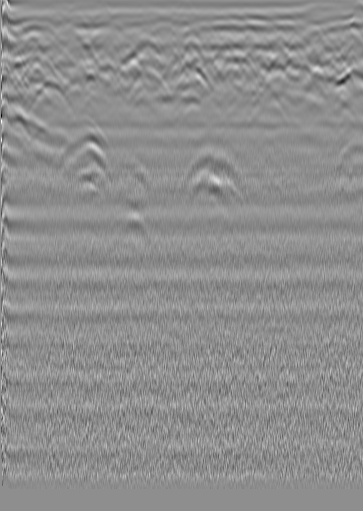가스: (56, 132, 111, 181)
상수: (307, 21, 327, 41)
오수: (21, 29, 41, 49)
우수: (183, 21, 203, 41)
